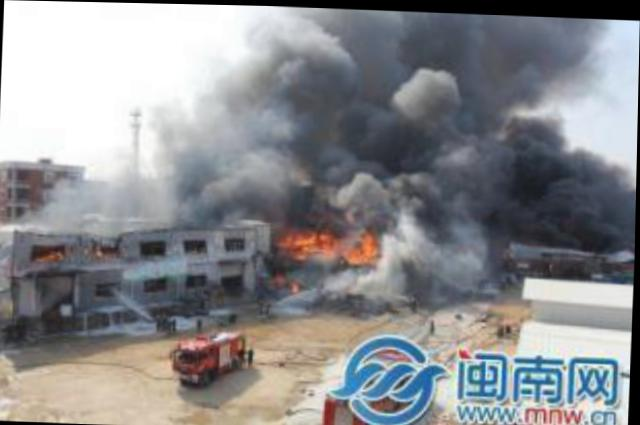fire: (274, 223, 335, 251), (341, 227, 380, 259)
